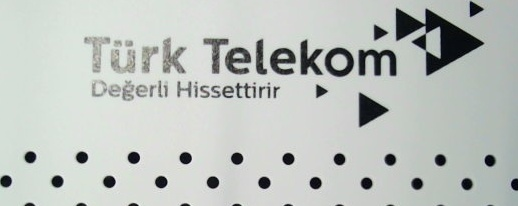AQ_TURKTelekom: (75, 1, 486, 129)
